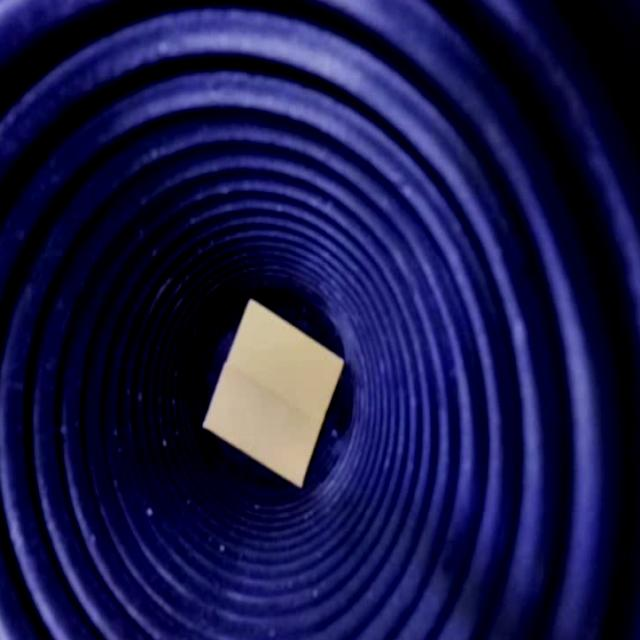obstacles: (202, 305, 345, 494)
